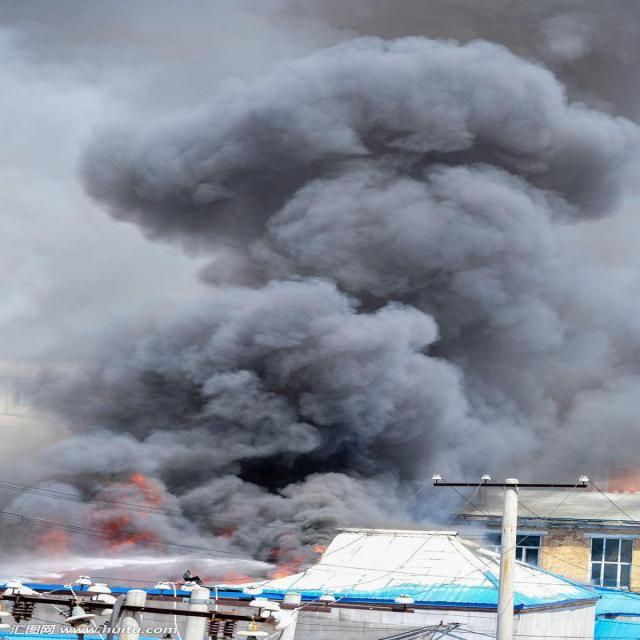Smoke: (0, 0, 640, 485), (5, 452, 482, 562)
